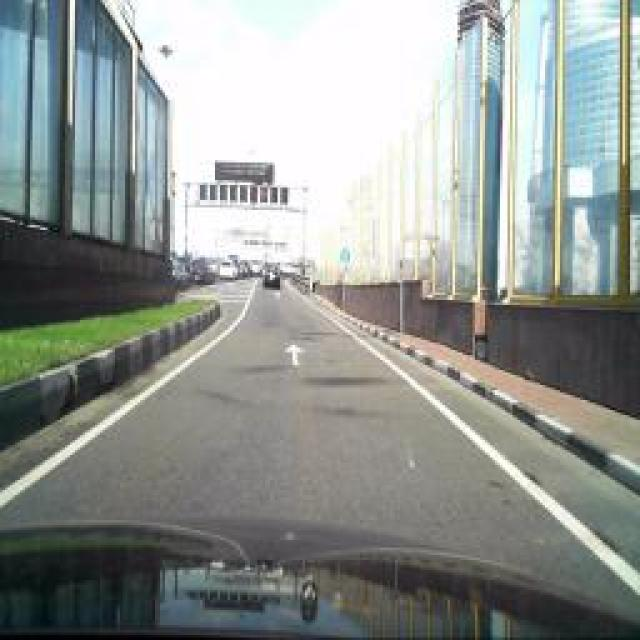sign: (339, 246, 351, 266)
